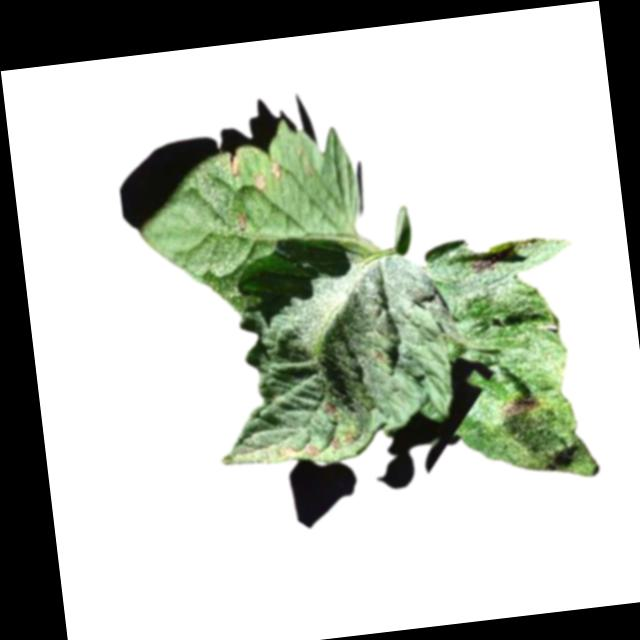Early_blight: (500, 395, 545, 422), (464, 255, 496, 279), (225, 147, 244, 178), (233, 209, 248, 232), (269, 160, 286, 179), (255, 171, 268, 192), (321, 400, 337, 417), (342, 431, 357, 449), (329, 435, 343, 452), (305, 442, 319, 458)
